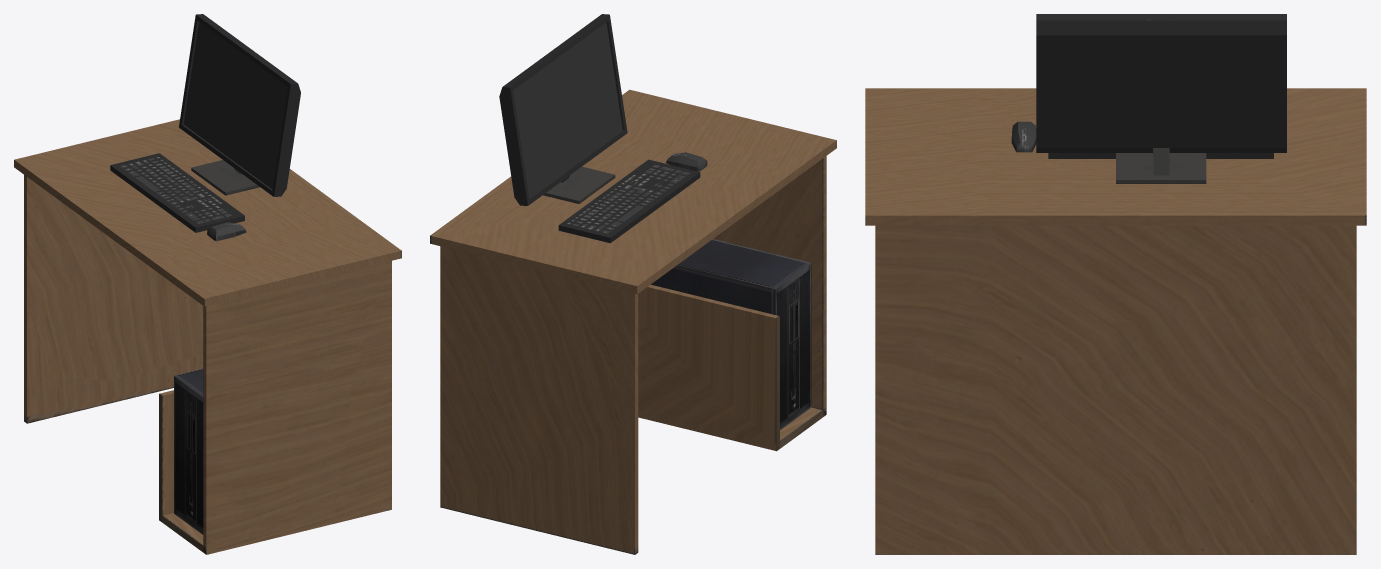
File: ComputerDesk 1.fbx
The picture shows the model from 3 angles, left to right: view 1: azimuth 30°, elevation 25°; view 2: azimuth 150°, elevation 25°; view 3: azimuth 270°, elevation 25°; orthographic projection. The views are drawn at different scales.
Visible parts, largest first — view 1: Desk, CPU2; view 2: Desk, CPU2; view 3: Desk, CPU2.
Part boxes in pixels (x1,y1,x2,y2): Desk: (14,119,401,554); CPU2: (110,14,300,534); Desk: (430,89,836,554); CPU2: (499,14,811,430); Desk: (865,88,1366,554); CPU2: (1011,14,1286,183).
Size of the model in its own units: 0.6 by 1.13 by 1.
1 material, 1 textured.
